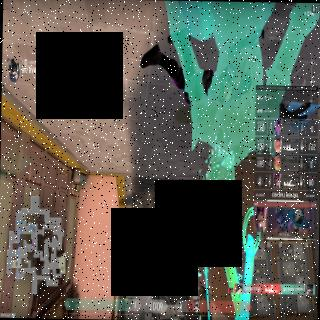ENEMY-HEAD: (124, 244, 126, 252)
